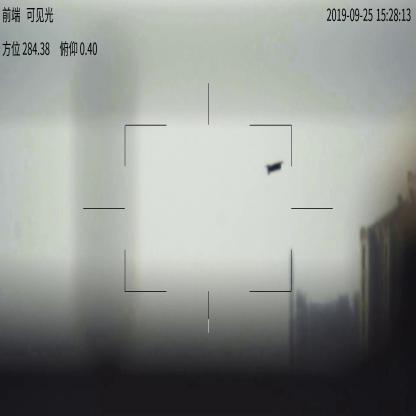uav: (266, 161, 283, 174)
